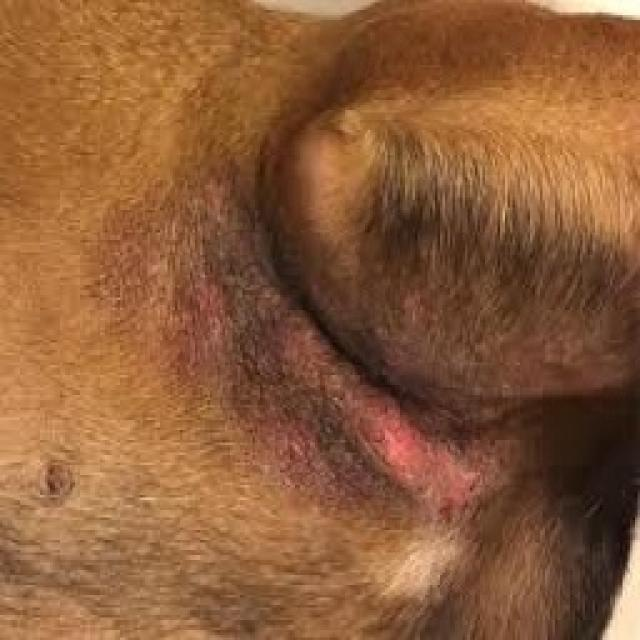hotspot: (352, 399, 432, 479)
